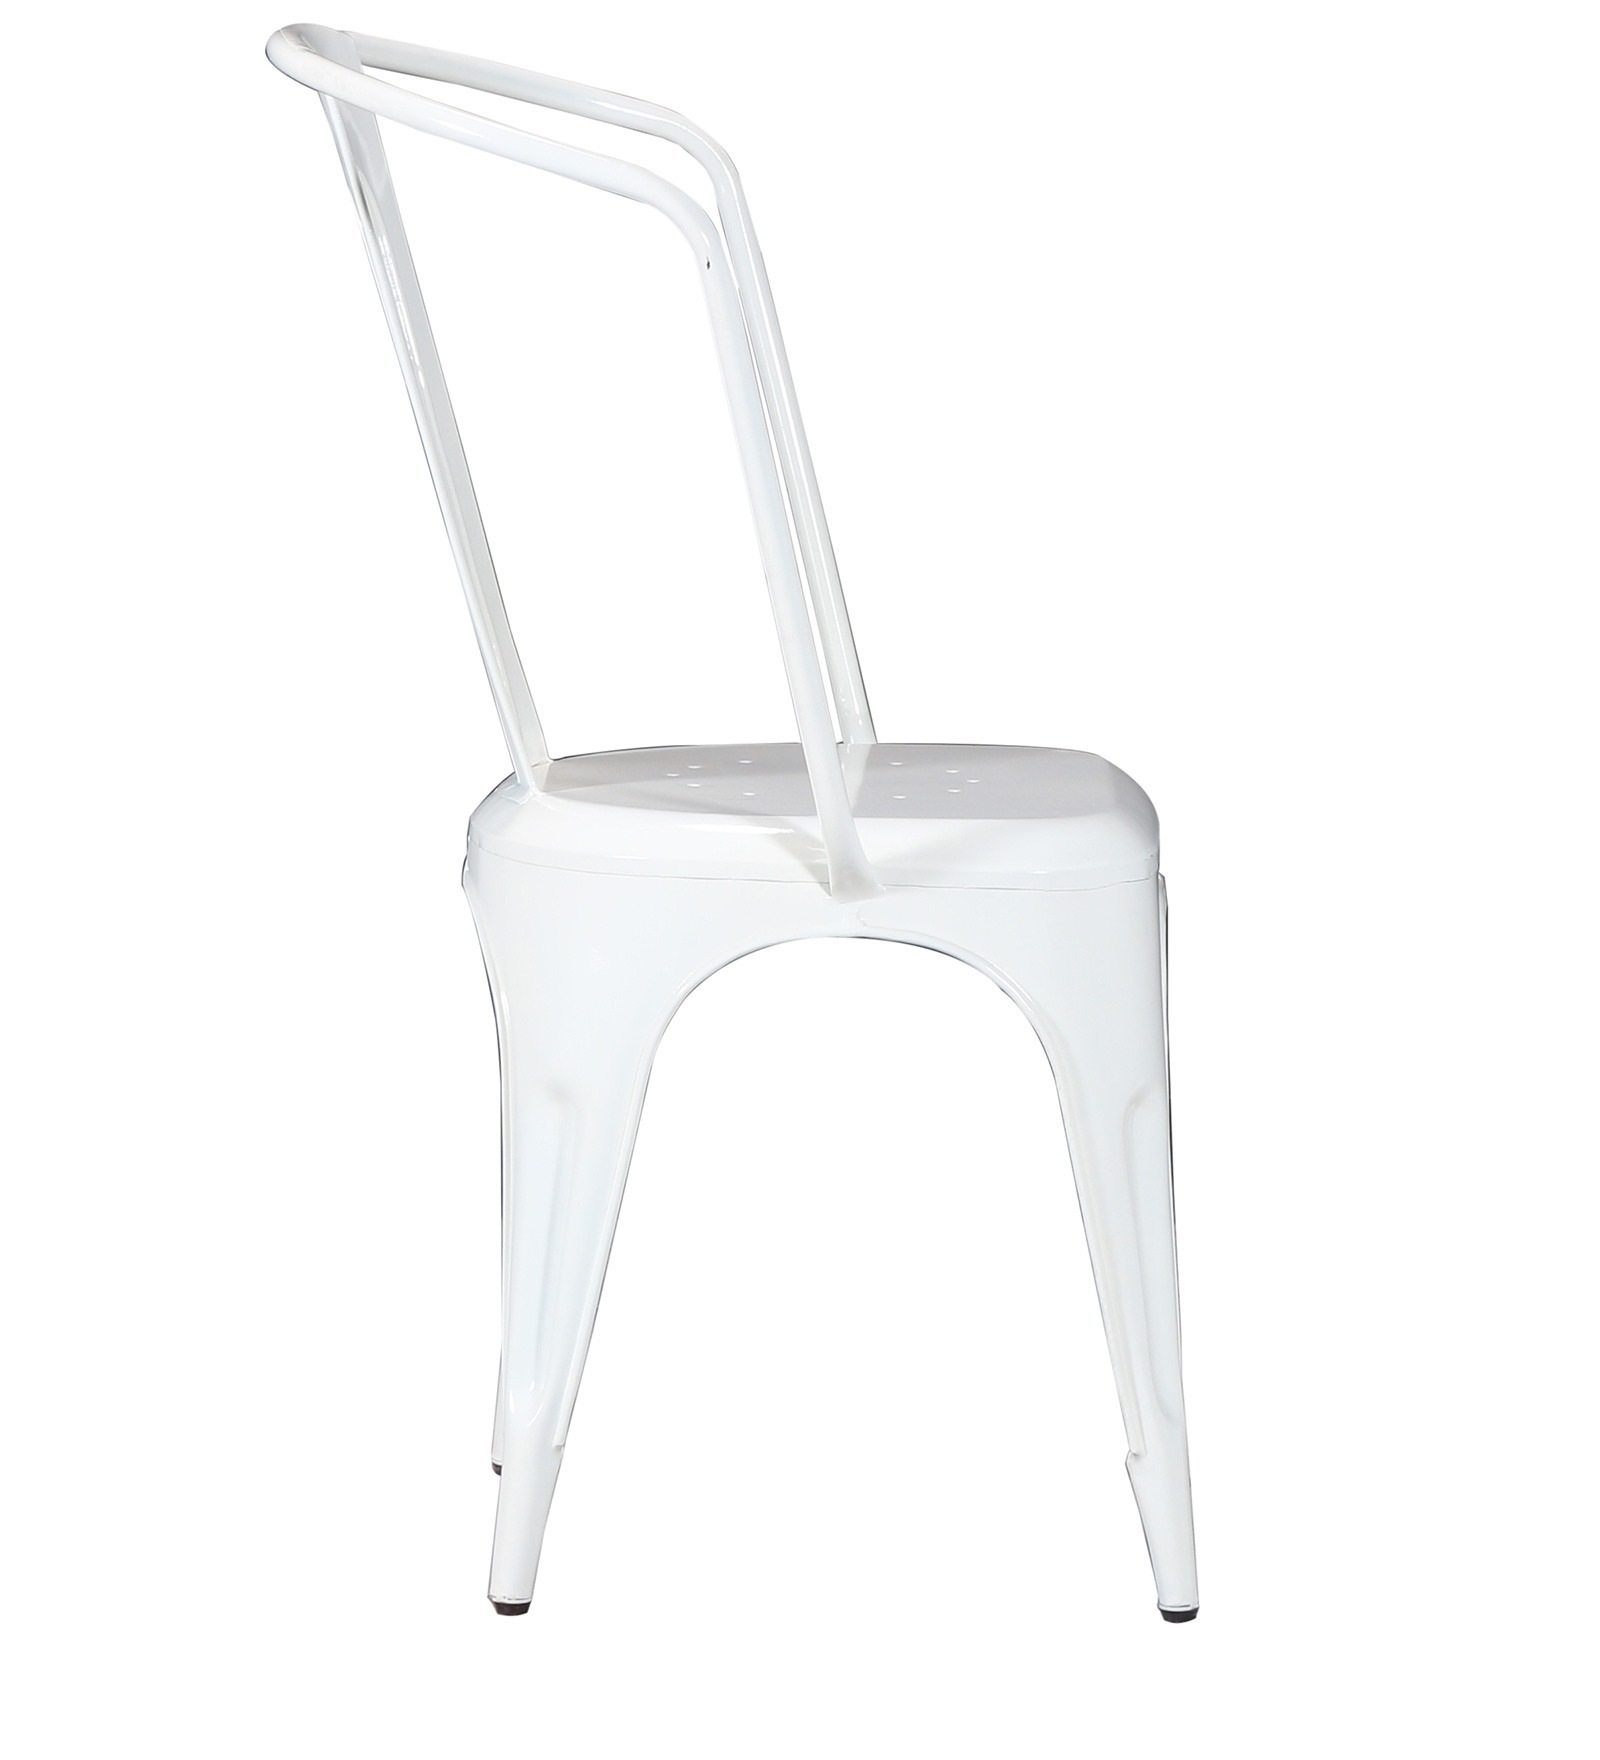Ekati Metal Chair in White Color by Bohemiana: (233, 9, 1312, 1688)
